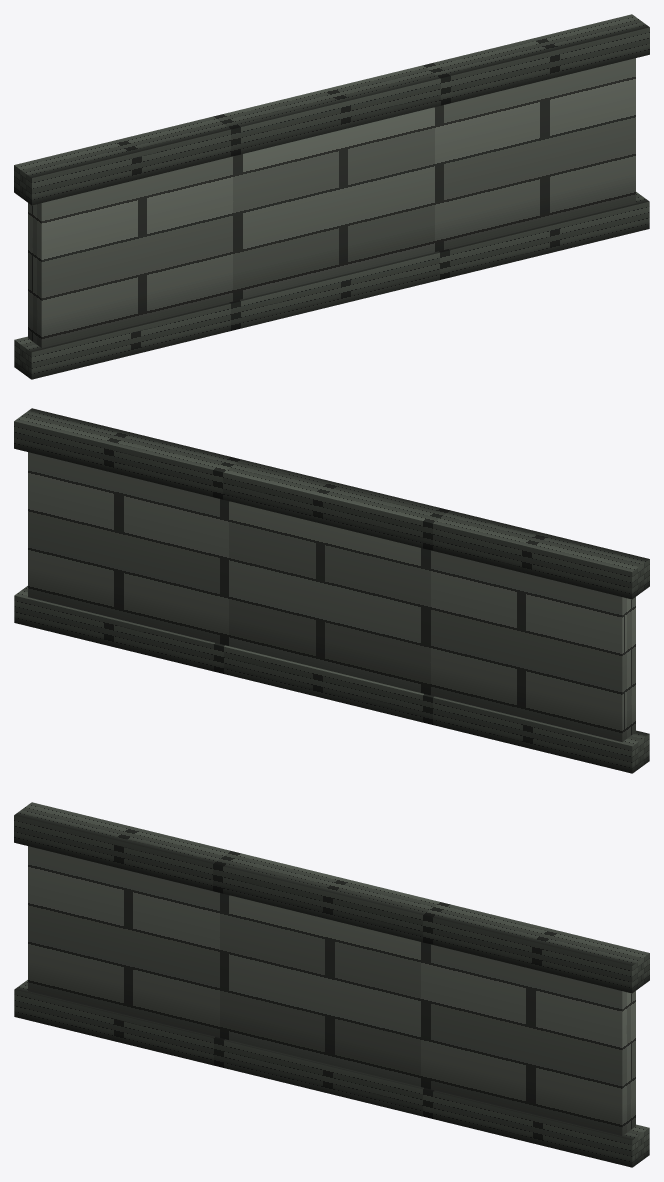
File: wall_low.gltf
3 renders of one model, top to bottom at view 1: azimuth 30°, elevation 25°; view 2: azimuth 150°, elevation 25°; view 3: azimuth 330°, elevation 25°, orthographic.
Visible parts, largest first — view 1: wall_low; view 2: wall_low; view 3: wall_low.
Part boxes in pixels (x1,y1,x2,y2): wall_low: (14, 14, 649, 379); wall_low: (14, 408, 649, 773); wall_low: (14, 802, 649, 1167).
Bounding box in the file's own units: 1.04 × 0.3245 × 0.052.
1 material, 1 textured.
